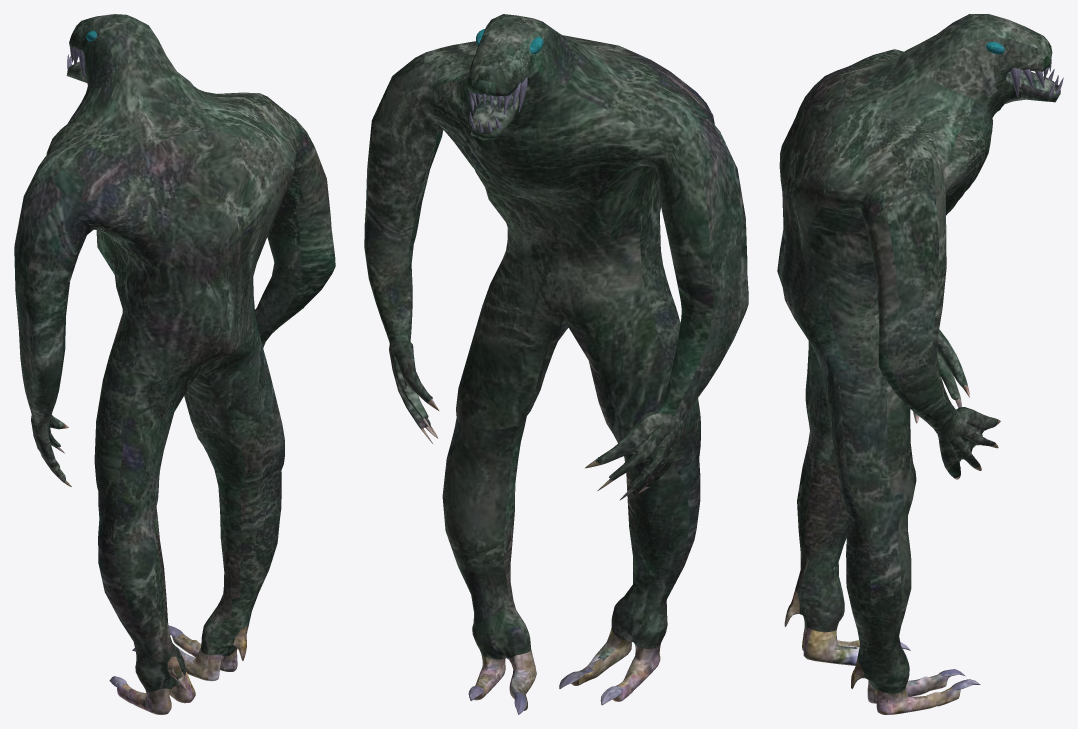
The model's file is Andar.0019.obj.
The picture shows the model from 3 angles, left to right: view 1: azimuth 30°, elevation 25°; view 2: azimuth 150°, elevation 25°; view 3: azimuth 270°, elevation 25°; orthographic projection. The views are drawn at different scales.
Visible parts, largest first — view 1: polySurface28; view 2: polySurface28; view 3: polySurface28.
Part boxes in pixels (left/top/right/bottom): polySurface28: left=14, top=14, right=335, bottom=714; polySurface28: left=364, top=14, right=748, bottom=714; polySurface28: left=777, top=14, right=1063, bottom=714.
Size of the model in its own units: 1.22 by 2.34 by 0.9184.
4 materials, 4 textured.
